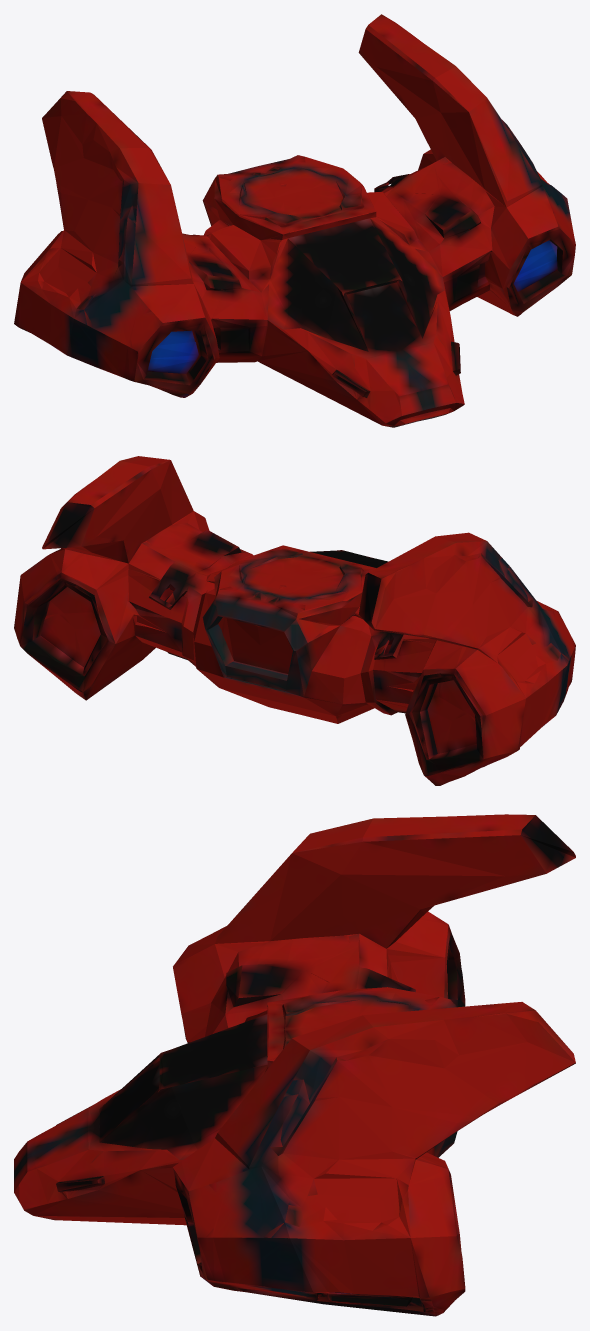
3 renders of one model, top to bottom at view 1: azimuth 30°, elevation 25°; view 2: azimuth 150°, elevation 25°; view 3: azimuth 270°, elevation 25°, orthographic. The views are drawn at different scales.
Visible parts, largest first — view 1: world; view 2: world; view 3: world.
Boxes of the visible parts, x1,y1,x2,y2 form: world: (14,14,575,427); world: (14,456,575,785); world: (14,814,575,1316).
Size of the model in its own units: 1 by 0.4421 by 0.7585.
1 material, 1 textured.
